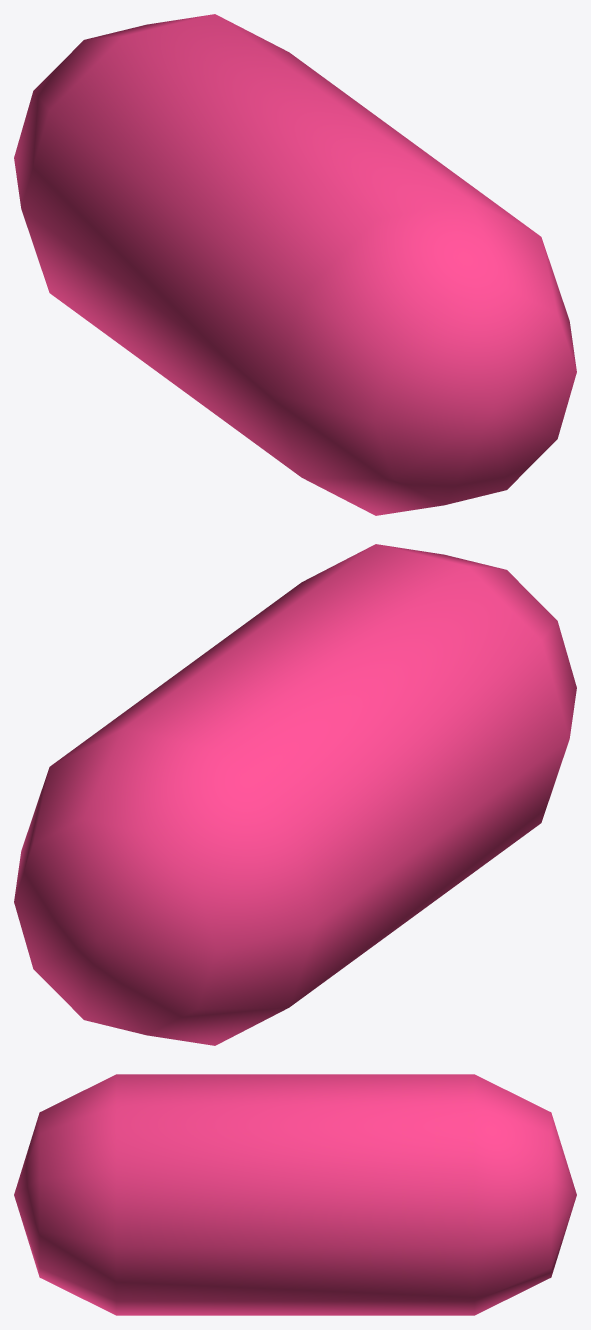
Rendered from w1_02_sprinkle.glb.
The picture shows the model from 3 angles, top to bottom: view 1: azimuth 30°, elevation 25°; view 2: azimuth 150°, elevation 25°; view 3: azimuth 270°, elevation 25°; orthographic projection. The views are drawn at different scales.
Visible parts, largest first — view 1: W1_02_Sprinkle; view 2: W1_02_Sprinkle; view 3: W1_02_Sprinkle.
Boxes of the visible parts, <box> form: W1_02_Sprinkle: <box>14,14,576,515</box>; W1_02_Sprinkle: <box>14,544,576,1045</box>; W1_02_Sprinkle: <box>14,1074,576,1315</box>.
Bounding box in the file's own units: 0.19 × 0.1807 × 0.44.
Materials: 1 (1 with a texture image).
